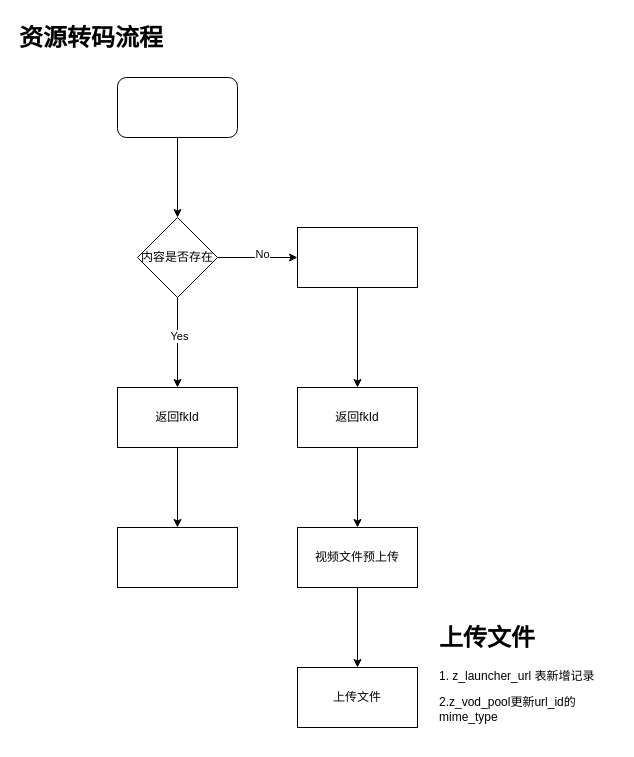
This 634x757 diagram has some shape labels left out. Each missing label, with the centre of its shape:
"不允许上传视频文件" goes at [177,557].
"搜索title" goes at [177,107].
"新增内容" goes at [357,257].
